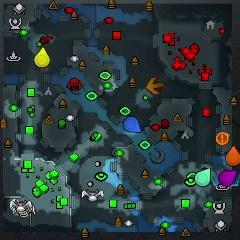Other: (216, 132, 228, 145)
p1: (124, 116, 142, 133)
p2: (195, 169, 212, 187)
p3: (218, 170, 237, 186)
p4: (34, 47, 50, 68)
p5: (226, 145, 240, 166)
x5: (146, 77, 163, 94)
